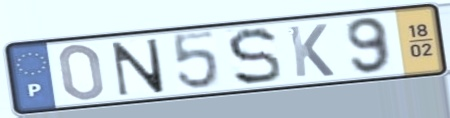0: (55, 42, 107, 103)
5: (170, 28, 223, 94)
9: (344, 15, 395, 76)
K: (285, 22, 337, 80)
N: (109, 36, 168, 98)
S: (224, 25, 285, 88)
